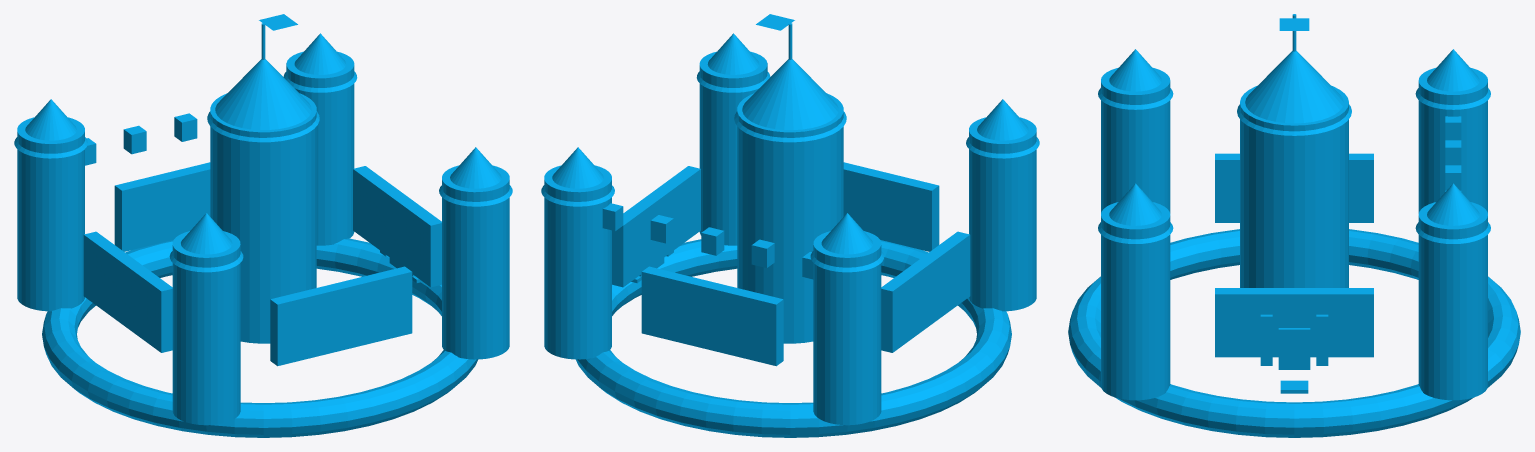
The model's file is create_a_castle_1773412723.glb.
3 renders of one model, left to right at view 1: azimuth 30°, elevation 25°; view 2: azimuth 150°, elevation 25°; view 3: azimuth 270°, elevation 25°, orthographic. The views are drawn at different scales.
Parts seen in each view (by area): view 1: Torus, Cylinder.004, Cylinder.003, Cylinder.002, Cylinder.001, Cube.001, Cylinder, Cube.003, Cube.002, Cube, Cone.004, Cone.001 (+5 smaller); view 2: Torus, Cylinder.004, Cylinder.001, Cylinder.003, Cylinder, Cube, Cylinder.002, Cube.003, Cube.001, Cube.002, Cone.004, Cone.003 (+7 smaller); view 3: Torus, Cylinder.004, Cylinder, Cylinder.002, Cube.002, Cylinder.003, Cylinder.001, Cone.004, Cube.003, Cone.001, Cone.003, Cone (+5 smaller).
Boxes of the visible parts, bbox=[...] form: Torus: bbox=[42, 238, 478, 437]; Cylinder.004: bbox=[210, 93, 316, 343]; Cylinder.003: bbox=[172, 231, 240, 425]; Cylinder.002: bbox=[442, 165, 509, 359]; Cylinder.001: bbox=[17, 117, 84, 311]; Cube.001: bbox=[270, 266, 412, 366]; Cylinder: bbox=[286, 51, 354, 245]; Cube.003: bbox=[83, 231, 172, 352]; Cube.002: bbox=[353, 166, 441, 287]; Cube: bbox=[114, 162, 210, 251]; Cone.004: bbox=[207, 59, 319, 142]; Cone.001: bbox=[14, 99, 87, 158]; Torus: bbox=[575, 239, 1011, 437]; Cylinder.004: bbox=[737, 93, 843, 343]; Cylinder.001: bbox=[813, 231, 881, 425]; Cylinder.003: bbox=[969, 117, 1036, 311]; Cylinder: bbox=[544, 165, 611, 359]; Cube: bbox=[641, 266, 783, 366]; Cylinder.002: bbox=[699, 51, 767, 245]; Cube.003: bbox=[881, 231, 970, 352]; Cube.001: bbox=[843, 162, 939, 251]; Cube.002: bbox=[612, 166, 700, 287]; Cone.004: bbox=[734, 59, 846, 142]; Cone.003: bbox=[966, 99, 1039, 158]; Torus: bbox=[1068, 229, 1520, 437]; Cylinder.004: bbox=[1240, 85, 1348, 287]; Cylinder: bbox=[1418, 202, 1487, 400]; Cylinder.002: bbox=[1101, 202, 1170, 400]; Cube.002: bbox=[1215, 288, 1373, 357]; Cylinder.003: bbox=[1101, 67, 1170, 213]; Cylinder.001: bbox=[1418, 67, 1487, 213]; Cone.004: bbox=[1237, 51, 1351, 135]; Cube.003: bbox=[1215, 153, 1373, 222]; Cone.001: bbox=[1415, 49, 1490, 109]; Cone.003: bbox=[1098, 49, 1173, 109]; Cone: bbox=[1415, 183, 1490, 243].
Size of the model in its own units: 4.56 by 3.7 by 4.56.
